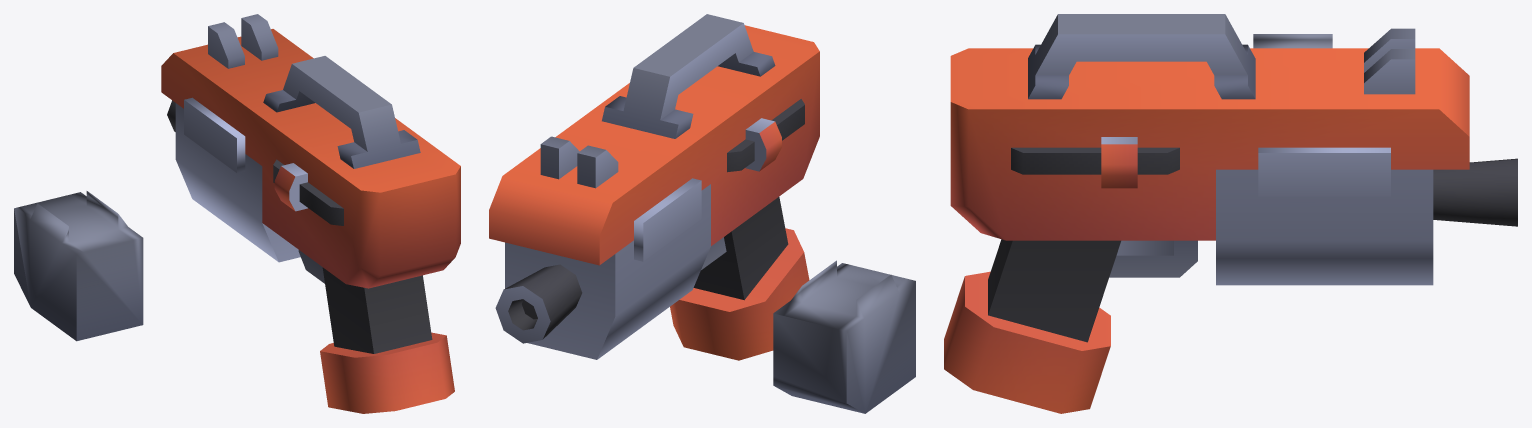
The model's file is blaster-c.glb.
The picture shows the model from 3 angles, left to right: view 1: azimuth 30°, elevation 25°; view 2: azimuth 150°, elevation 25°; view 3: azimuth 270°, elevation 25°; orthographic projection. The views are drawn at different scales.
Visible parts, largest first — view 1: blaster-c, magazine, bolt; view 2: blaster-c, magazine, bolt; view 3: blaster-c, bolt, magazine.
Boxes of the visible parts, x1,y1,x2,y2 form: blaster-c: (161,14,460,413); magazine: (14,191,143,341); bolt: (274,163,307,211); blaster-c: (489,14,819,360); magazine: (773,260,915,413); bolt: (745,118,781,171); blaster-c: (944,14,1517,413); bolt: (1101,137,1137,188); magazine: (1253,34,1332,48).
Bounding box in the file's own units: 4.27 × 3.95 × 5.56.
Materials: 1 (1 with a texture image).
